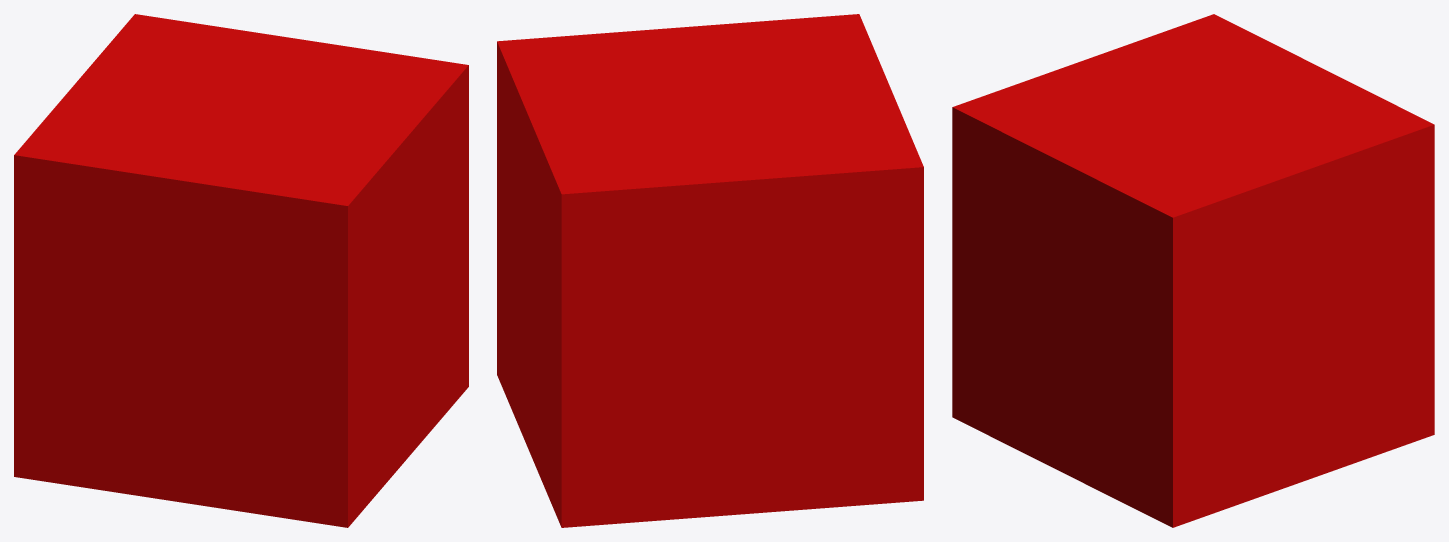
Rendered from shard1.gltf.
3 renders of one model, left to right at view 1: azimuth 30°, elevation 25°; view 2: azimuth 150°, elevation 25°; view 3: azimuth 270°, elevation 25°, orthographic. The views are drawn at different scales.
Visible parts, largest first — view 1: shard1_mesh; view 2: shard1_mesh; view 3: shard1_mesh.
Part boxes in pixels (left/top/right/bottom): shard1_mesh: left=14, top=14, right=468, bottom=527; shard1_mesh: left=497, top=14, right=923, bottom=527; shard1_mesh: left=952, top=14, right=1434, bottom=527.
Size of the model in its own units: 1.41 by 1 by 1.41.
